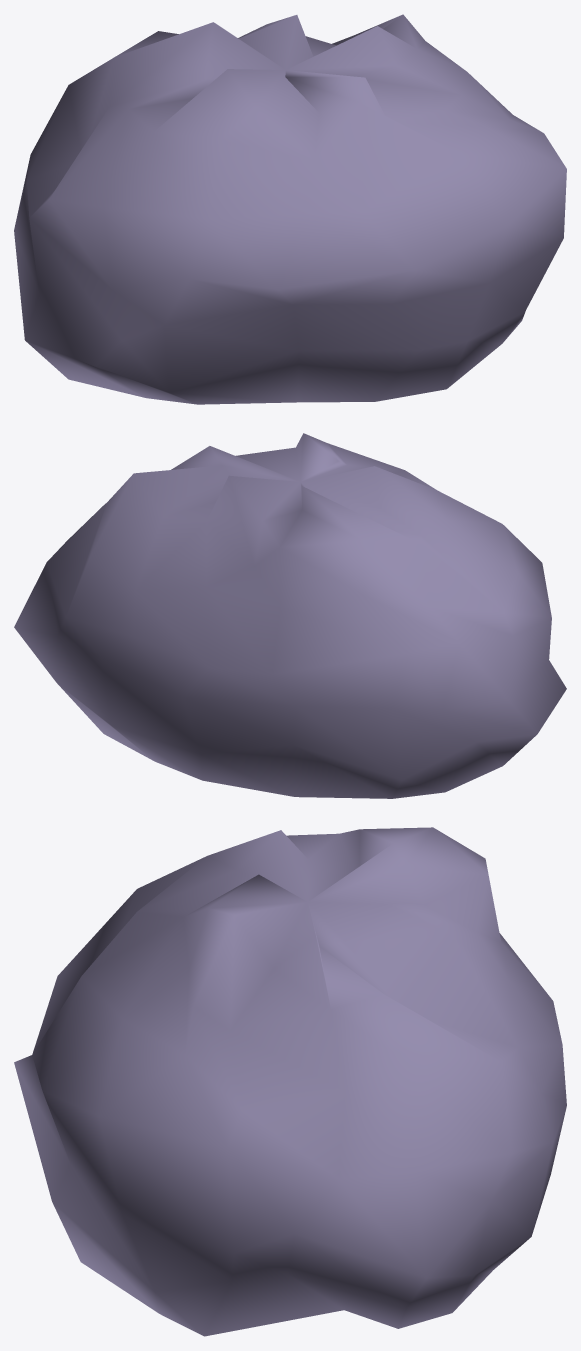
Rendered from moon_rock.glb.
3 views of the same model, one above another, from view 1: azimuth 30°, elevation 25°; view 2: azimuth 150°, elevation 25°; view 3: azimuth 270°, elevation 25° (orthographic). The views are drawn at different scales.
Visible parts, largest first — view 1: Body; view 2: Body; view 3: Body.
Boxes of the visible parts, left/top/right/bottom form: Body: left=14, top=14, right=566, bottom=404; Body: left=14, top=433, right=566, bottom=798; Body: left=14, top=827, right=566, bottom=1336.
Bounding box in the file's own units: 1.84 × 0.9957 × 1.39.
